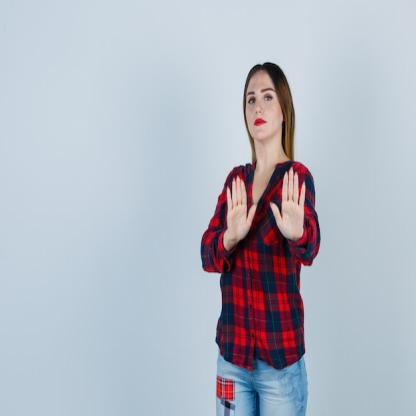stop: (268, 164, 308, 242), (223, 174, 258, 246)
